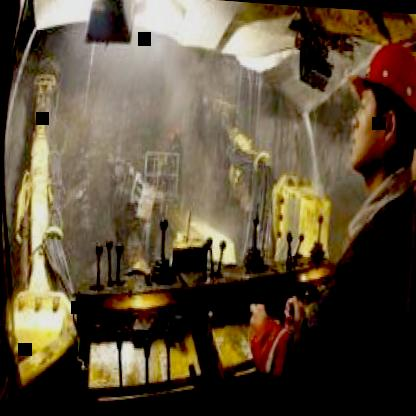helmet: (338, 30, 416, 191)
